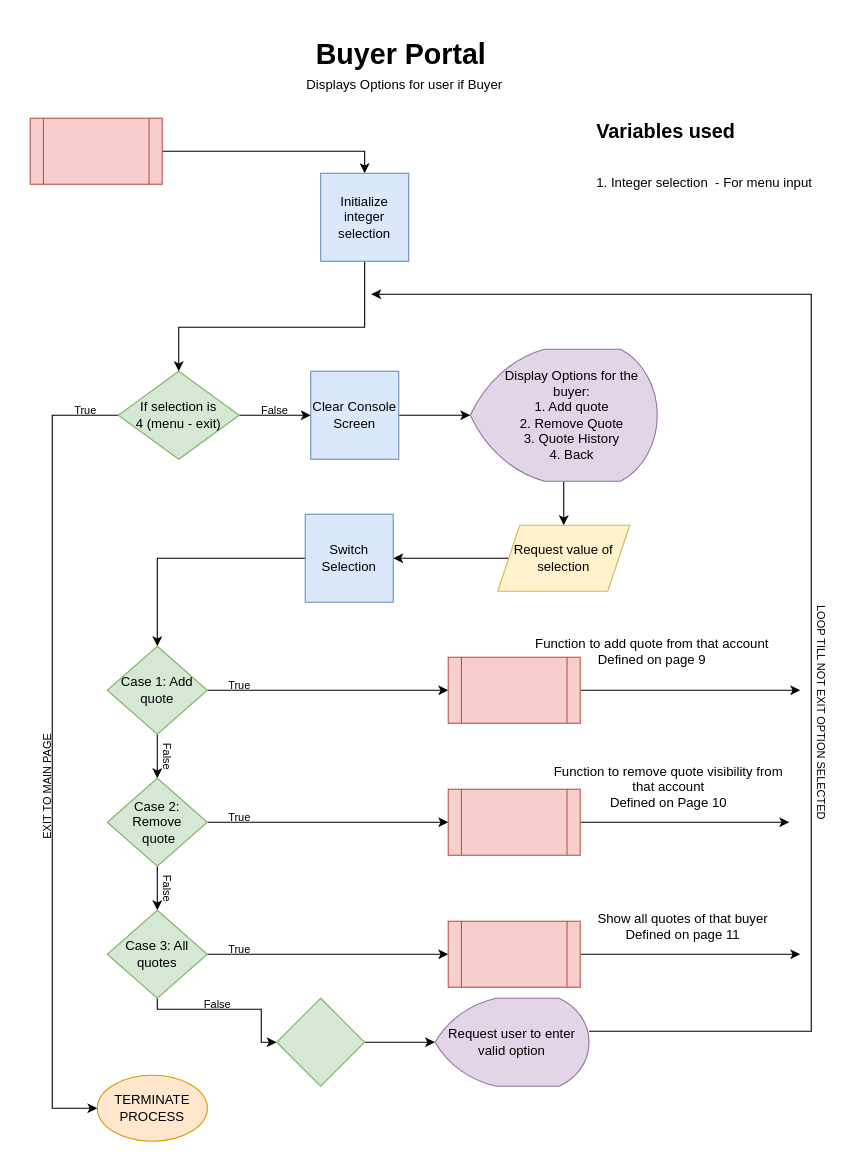
Image size: 868x1161. Some labels were removed from this diagram. Each missing label, with the box of its shape:
Add_quote process/function: (447, 656, 580, 723)
All_quotes process/function: (447, 920, 580, 987)
Buyers_portal: (29, 117, 162, 184)
default: (276, 997, 365, 1086)
Remove_quote process/function: (447, 788, 580, 855)
